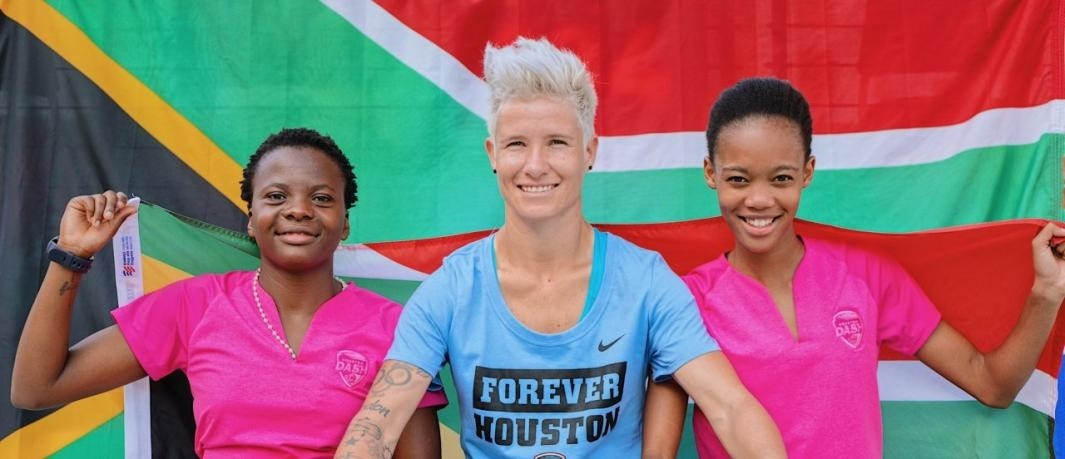face_no_mask: (482, 41, 596, 216), (701, 79, 814, 253), (244, 130, 356, 269)
